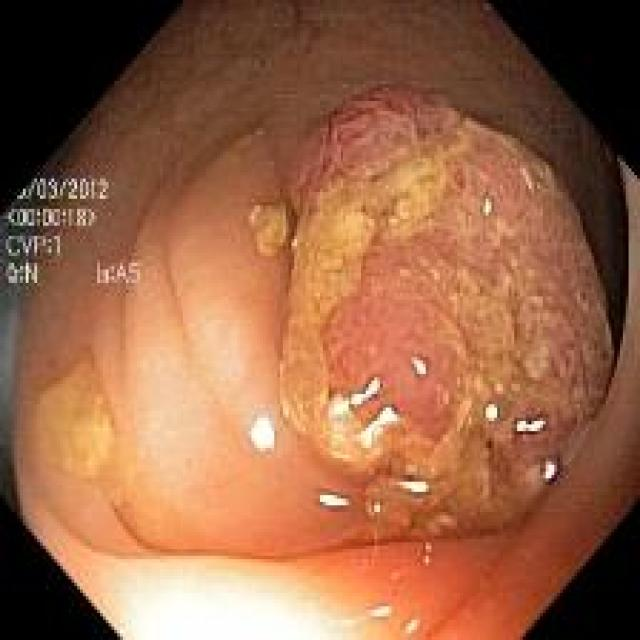Polyps: (280, 85, 611, 536)
